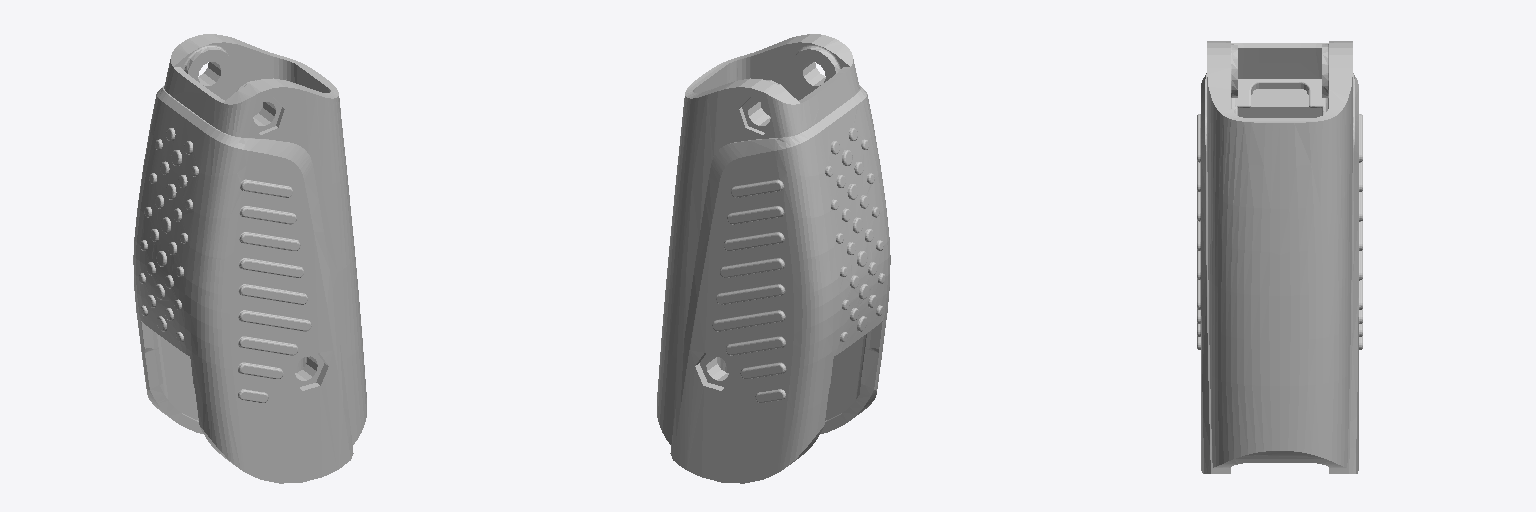
The model's file is right_little_1_visuals.obj.
The picture shows the model from 3 angles: view 1: azimuth 30°, elevation 25°; view 2: azimuth 150°, elevation 25°; view 3: azimuth 270°, elevation 25°; orthographic projection.
Size of the model in its own units: 0.0252 by 0.049 by 0.0184.